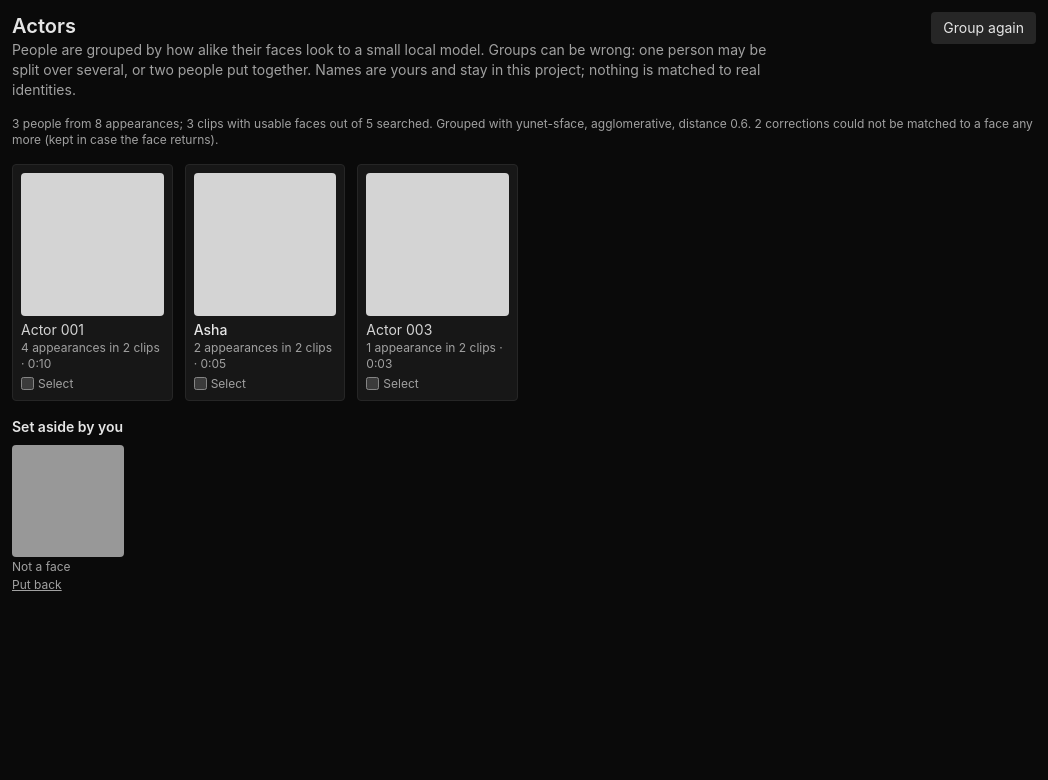
Test case: merges the selected people into the one the user named
Step 1. Click the checkbox named "Select Actor 001" → (28, 384), box [21,377,34,390]
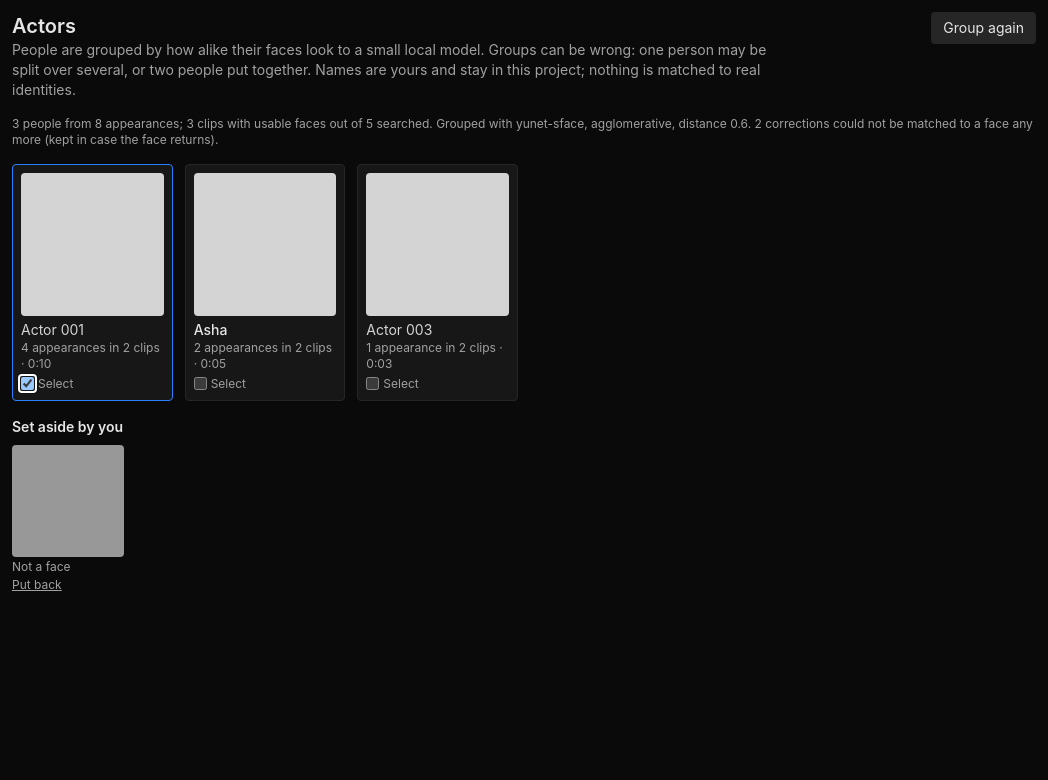
Expected: the element "Merge" is not shown
Step 2. Click the checkbox named "Select Asha" → (200, 384), box [194,377,207,390]
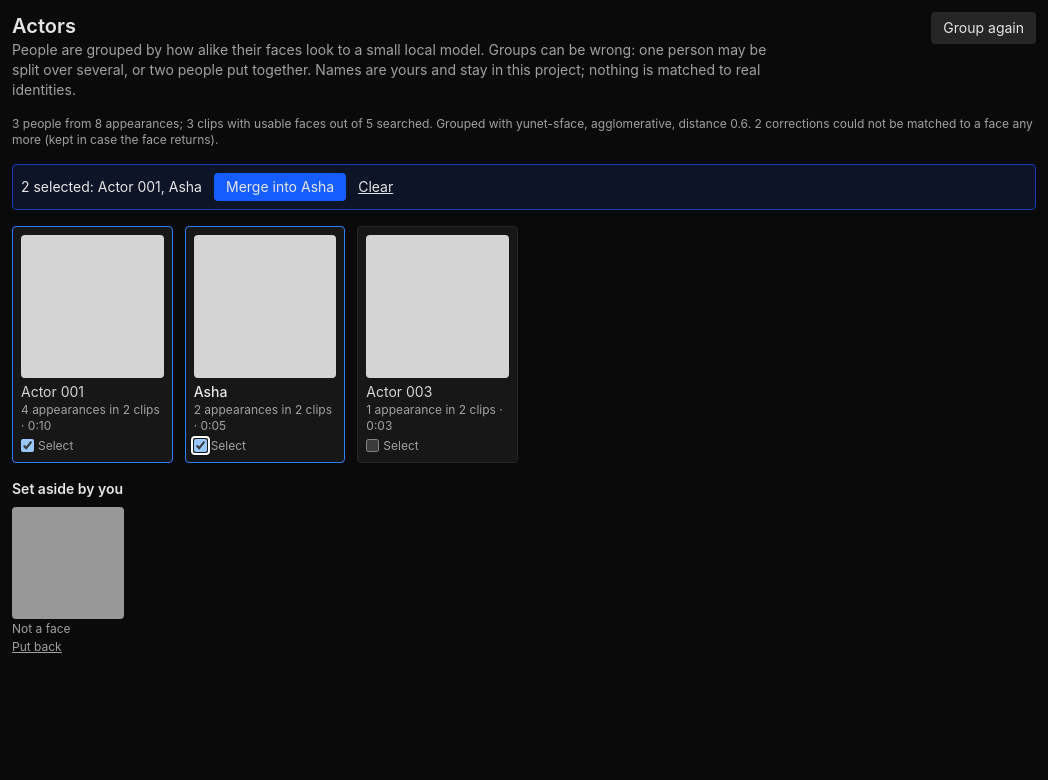
Step 3. Click the button "Merge into Asha" → (280, 187), box [214,173,346,201]
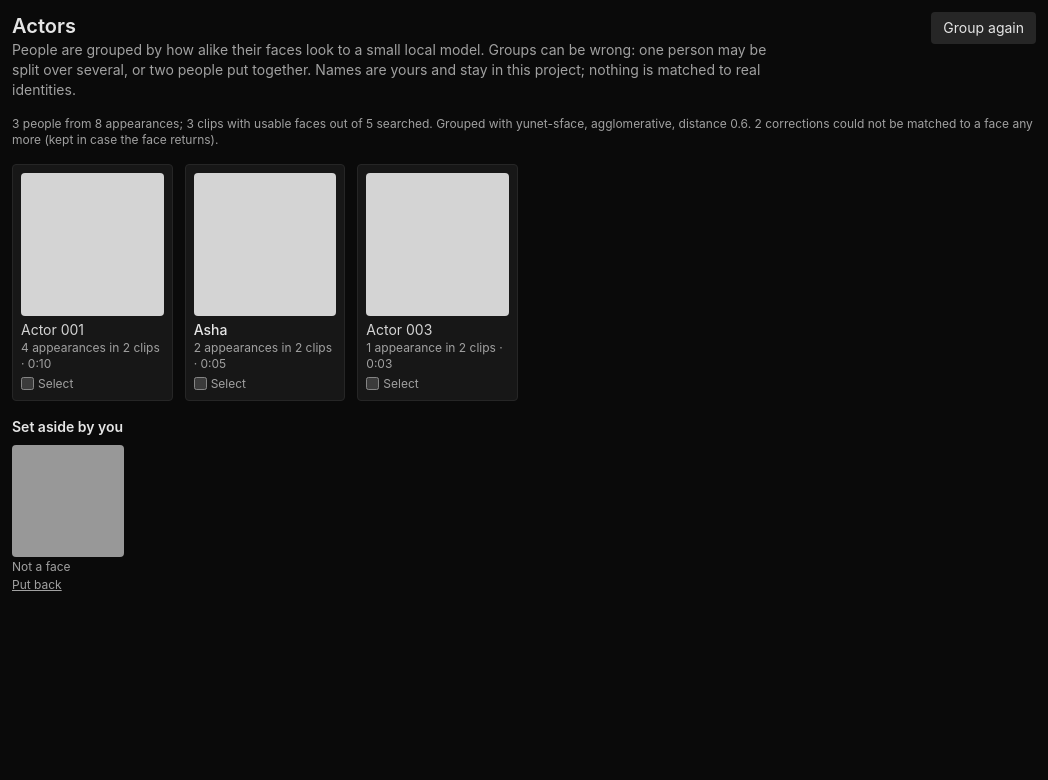
Expected: the button "Merge" is gone
